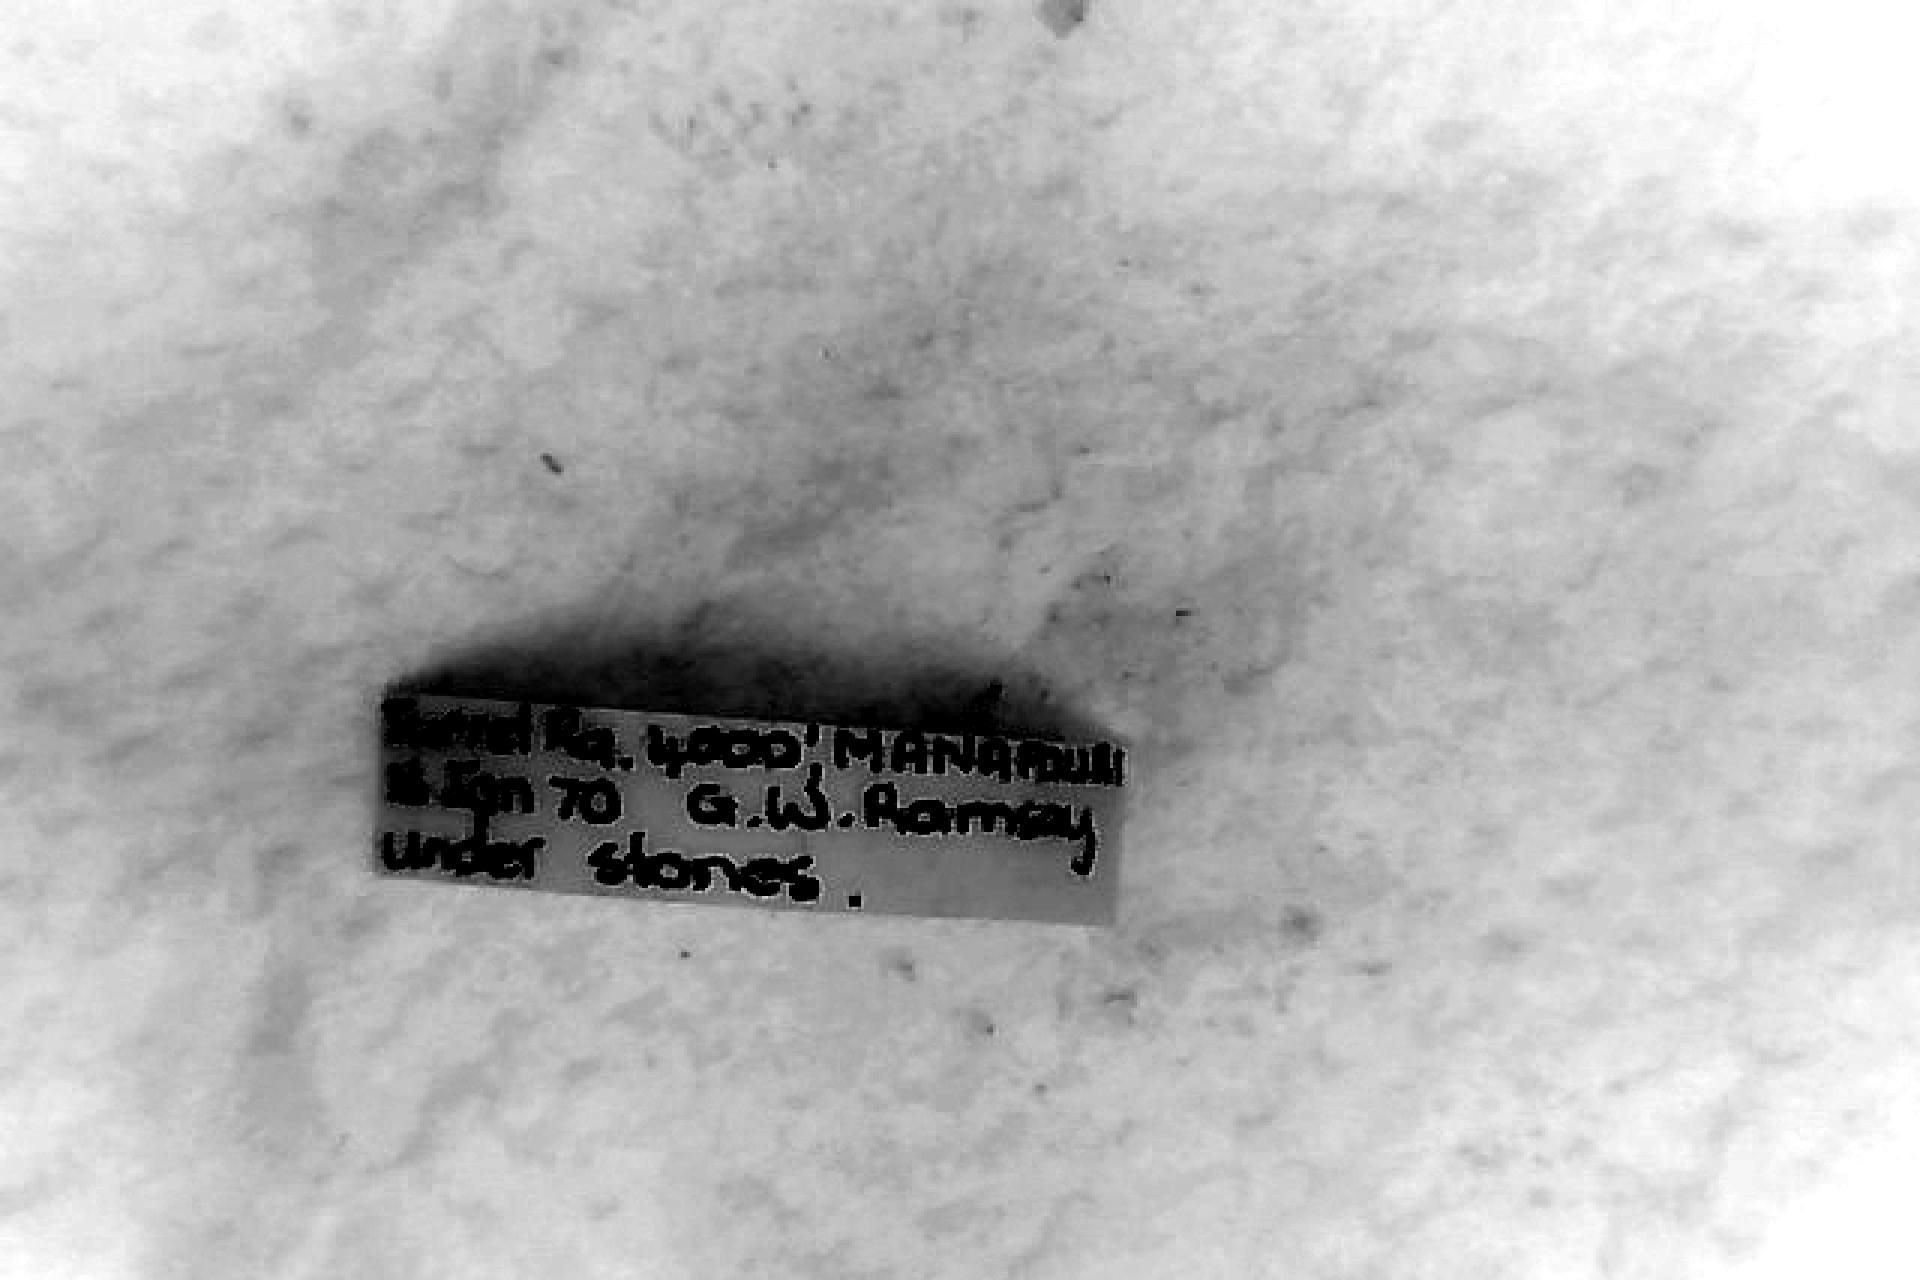hand_label: (379, 693, 1125, 922)
